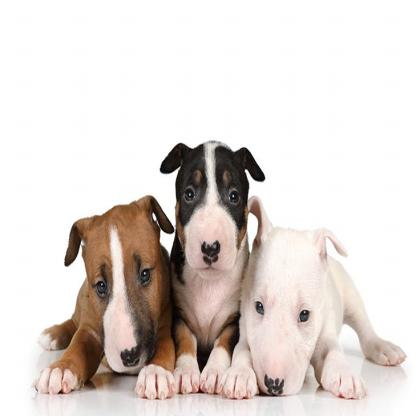Bull Terrier: (239, 178, 402, 403), (157, 119, 260, 396), (48, 174, 173, 401)
